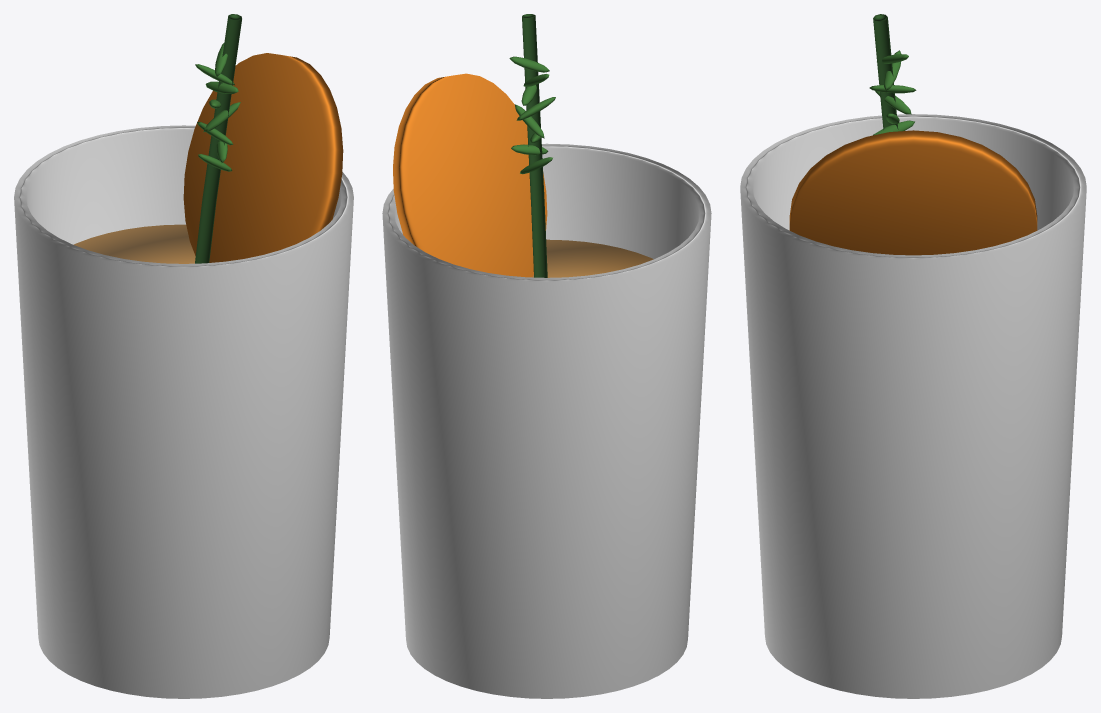
The model's file is gin-laranja-alecrim.glb.
The picture shows the model from 3 angles, left to right: view 1: azimuth 30°, elevation 25°; view 2: azimuth 150°, elevation 25°; view 3: azimuth 270°, elevation 25°; orthographic projection. The views are drawn at different scales.
Visible parts, largest first — view 1: gin-laranja-alecrim; view 2: gin-laranja-alecrim; view 3: gin-laranja-alecrim.
Part boxes in pixels (x1,y1,x2,y2): gin-laranja-alecrim: (14, 14, 353, 698); gin-laranja-alecrim: (382, 14, 711, 698); gin-laranja-alecrim: (740, 14, 1086, 698).
Size of the model in its own units: 0.084 by 0.1702 by 0.084.
